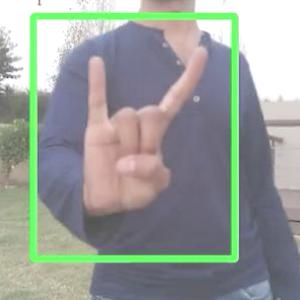takeoff-hand: (73, 33, 212, 224)
